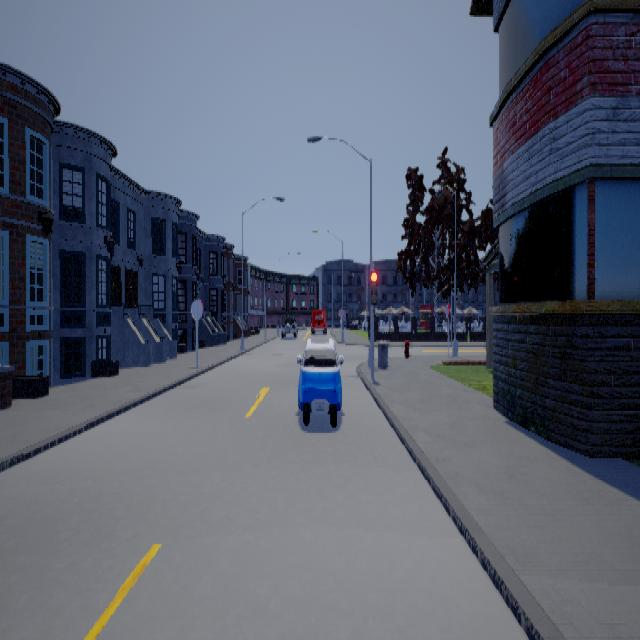red_light: (369, 263, 376, 310)
traffic_sign: (337, 306, 343, 316)
vehicle: (296, 335, 343, 426), (308, 306, 328, 338), (279, 315, 296, 338)
